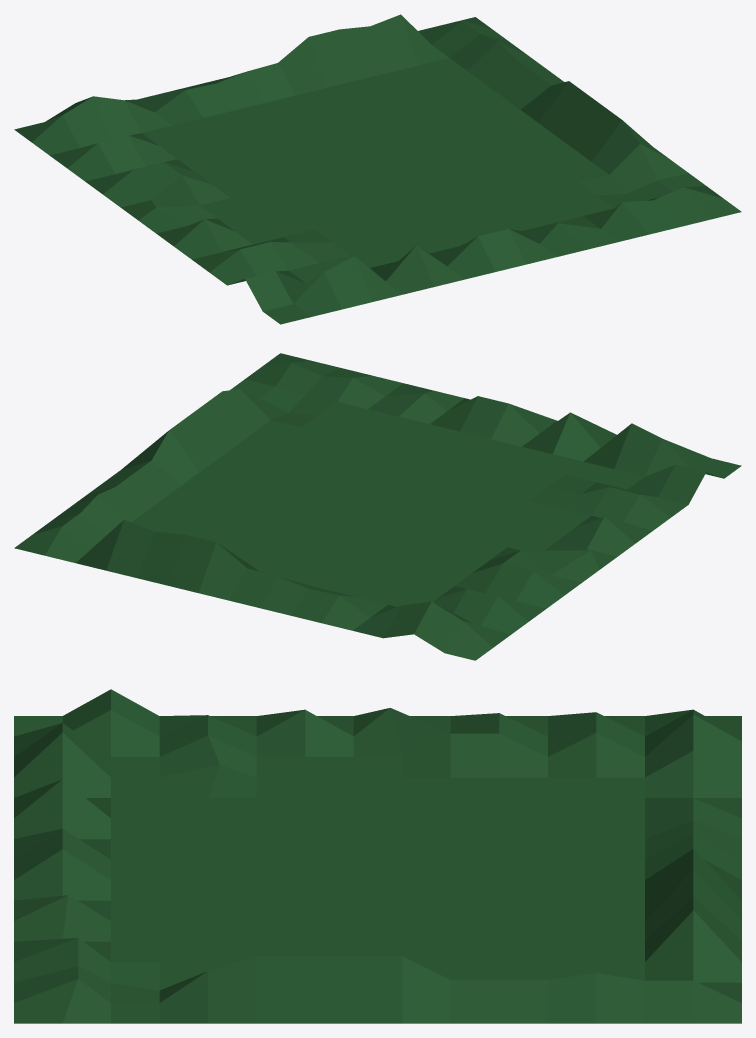
Rendered from FantasyGrassTerrain 1.fbx.
3 views of the same model, one above another, from view 1: azimuth 30°, elevation 25°; view 2: azimuth 150°, elevation 25°; view 3: azimuth 270°, elevation 25° (orthographic). The views are drawn at different scales.
Parts seen in each view (by area): view 1: GrassTerrain; view 2: GrassTerrain; view 3: GrassTerrain.
Boxes of the visible parts, box(x1,y1,x2,y2) form: GrassTerrain: box(14, 14, 741, 324); GrassTerrain: box(14, 353, 741, 660); GrassTerrain: box(14, 689, 741, 1023).
Bounding box in the file's own units: 15000 × 1358 × 15000.
